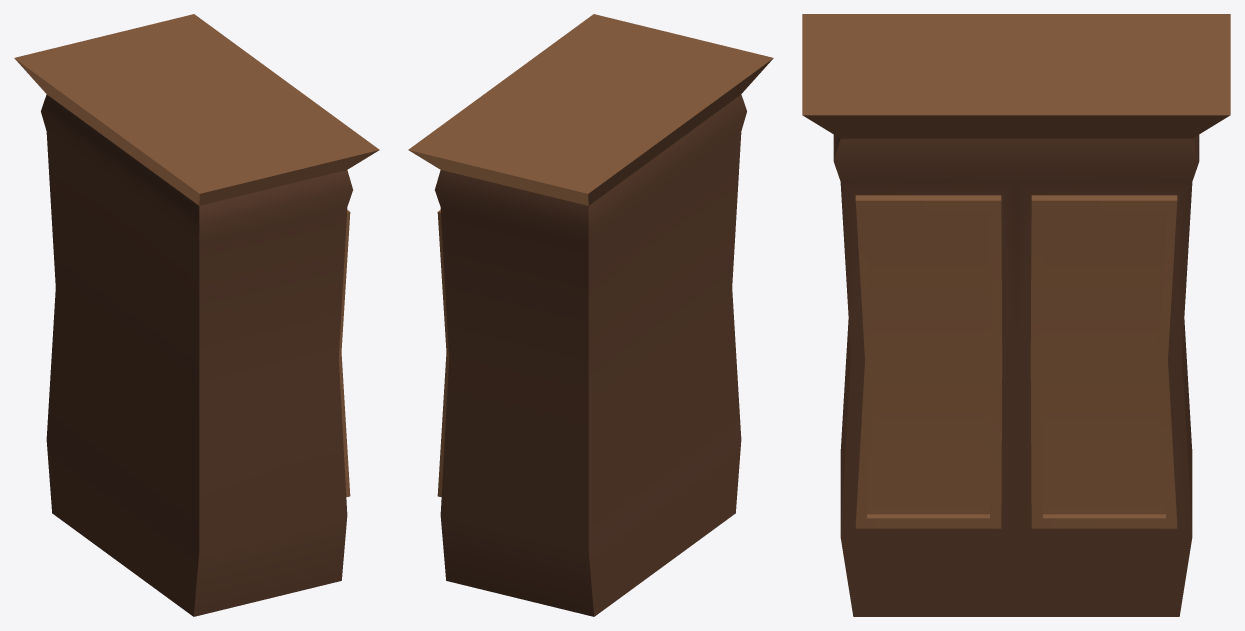
Rendered from kast.fbx.
The picture shows the model from 3 angles, left to right: view 1: azimuth 30°, elevation 25°; view 2: azimuth 150°, elevation 25°; view 3: azimuth 270°, elevation 25°; orthographic projection. The views are drawn at different scales.
Visible parts, largest first — view 1: kast; view 2: kast; view 3: kast.
Boxes of the visible parts, left/top/right/bottom form: kast: left=14, top=14, right=379, bottom=616; kast: left=408, top=14, right=773, bottom=616; kast: left=802, top=14, right=1230, bottom=616.
Size of the model in its own units: 0.8517 by 2 by 1.52.
